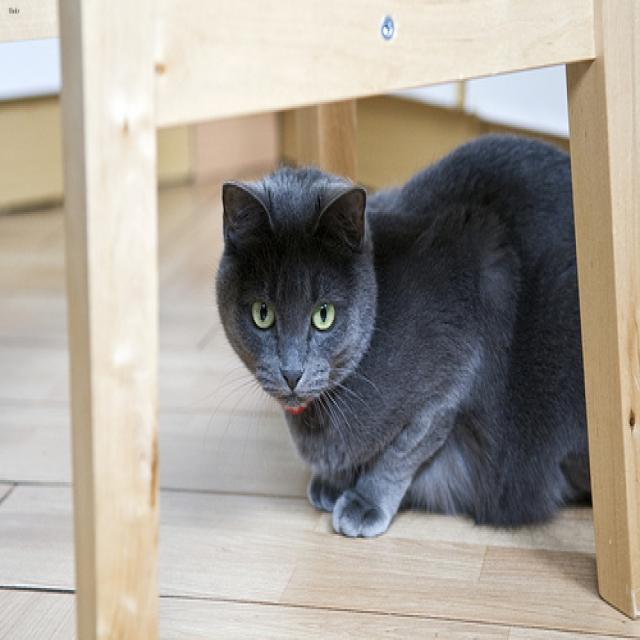cat: (215, 181, 365, 407)
